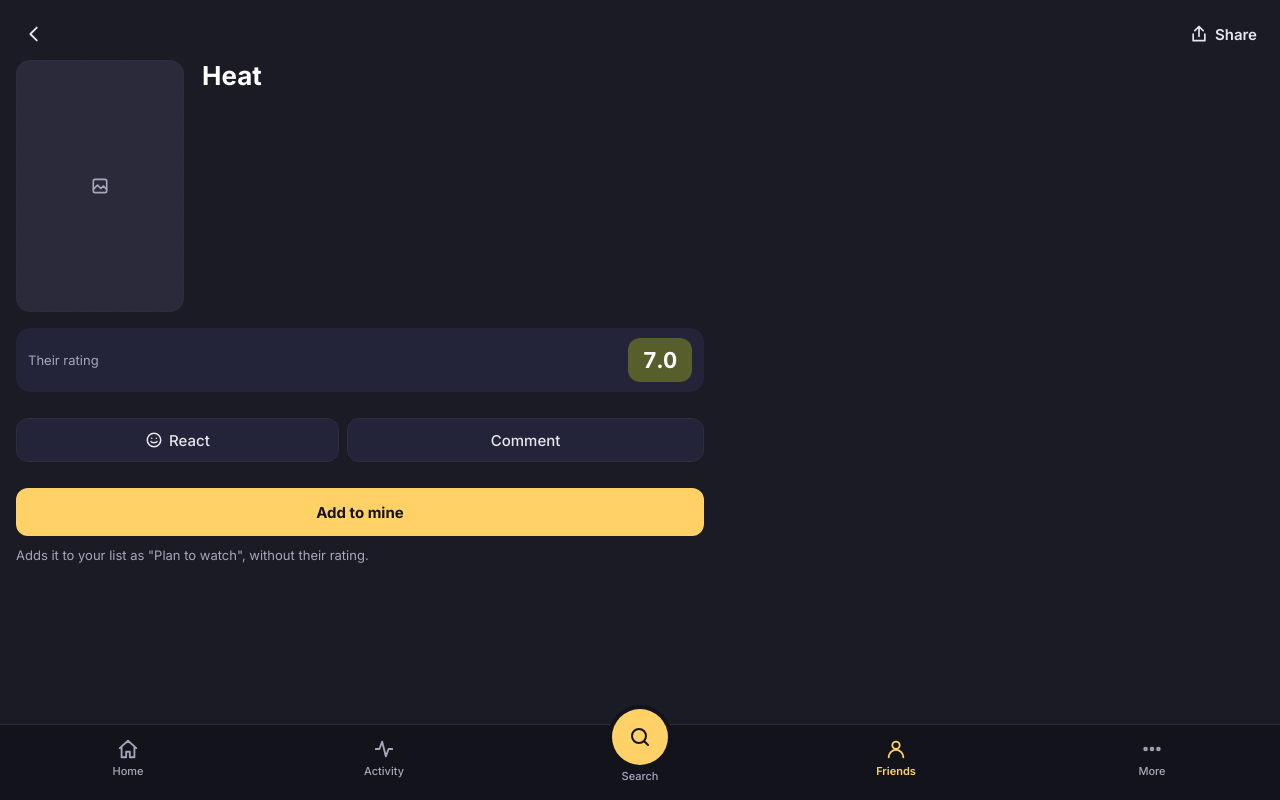
Share on a title page › a friend's title: Share sends it without a rating (it is not yours)
What coordinates should you click on to do the following:
click the button "Share "
I would click on:
 (1223, 34)
Its box is [1178,12,1268,56].
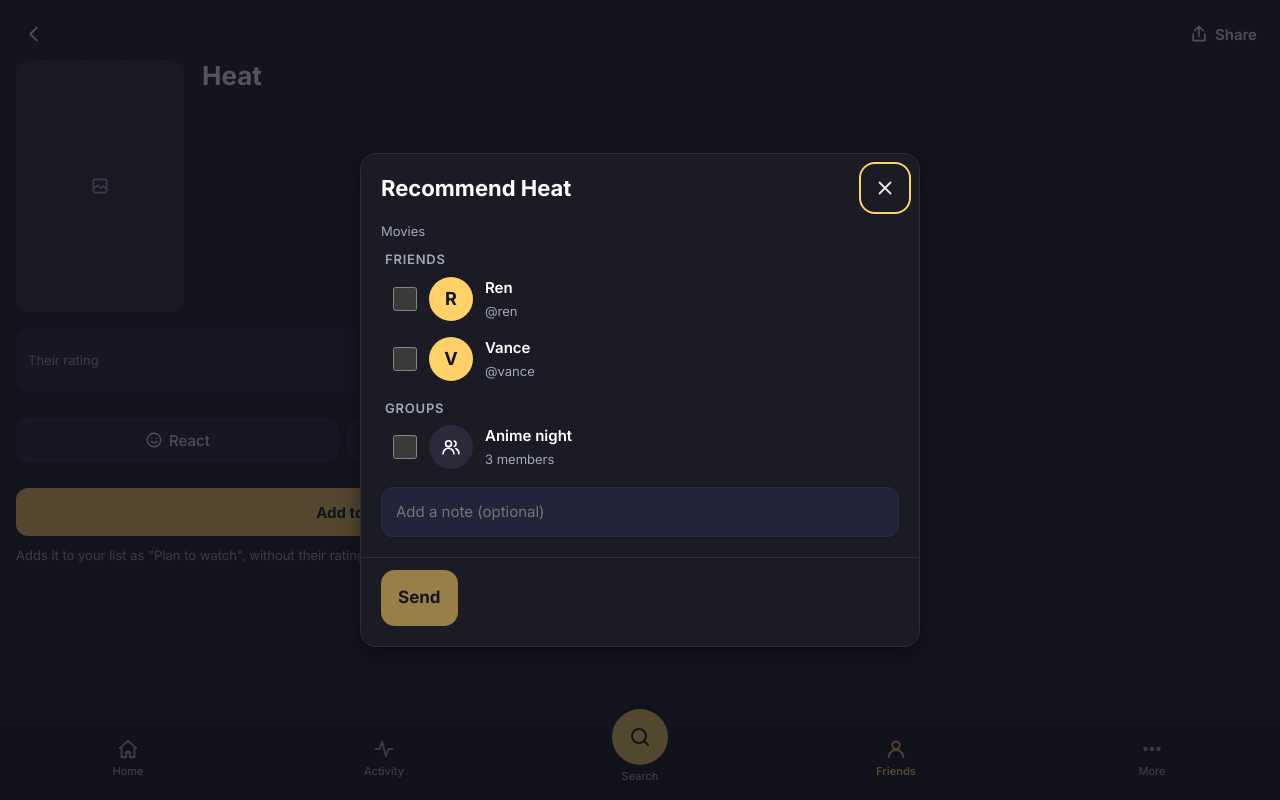
What coordinates should you click on to do the following:
click the checkbox labelled "R Ren @ren"
I would click on:
 (405, 299)
Its box is [393,287,417,311].
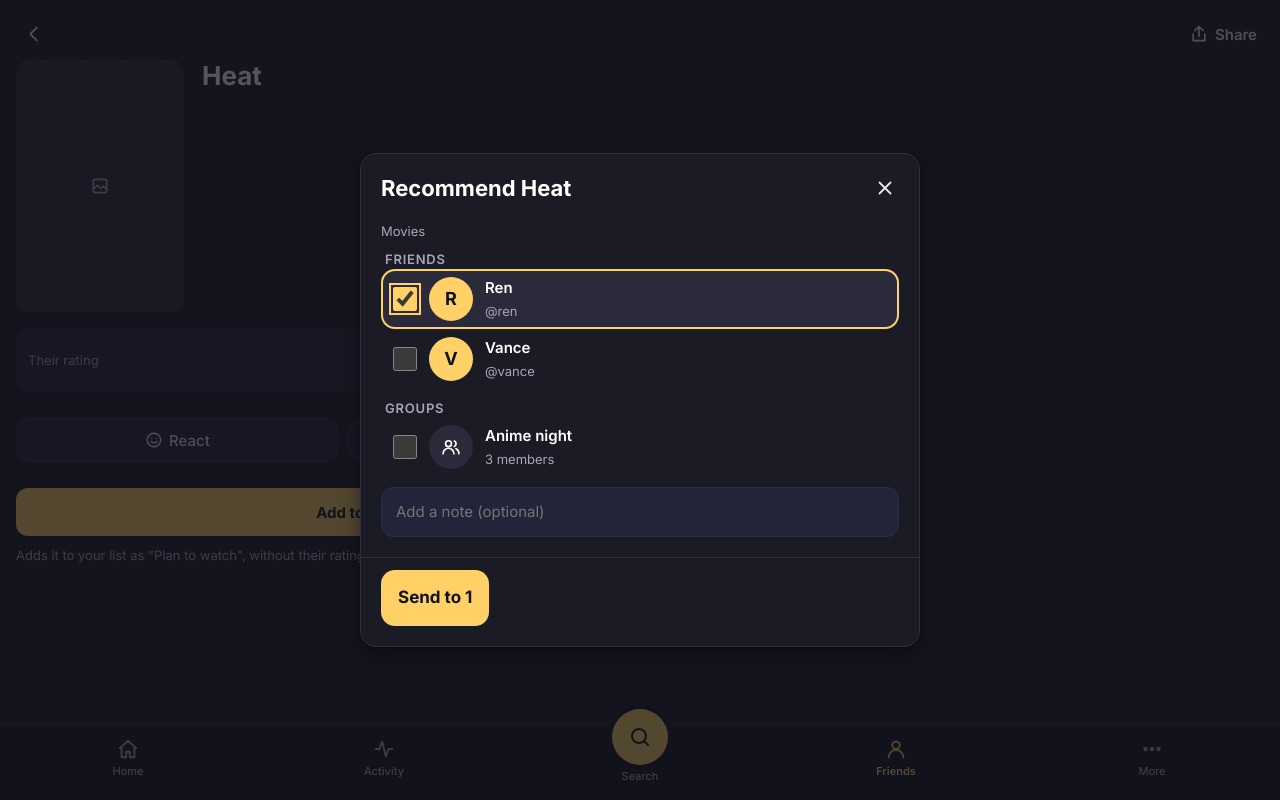
What coordinates should you click on to do the following:
click the button "Send to 1"
I would click on:
 (435, 598)
Its box is [381,570,489,626].
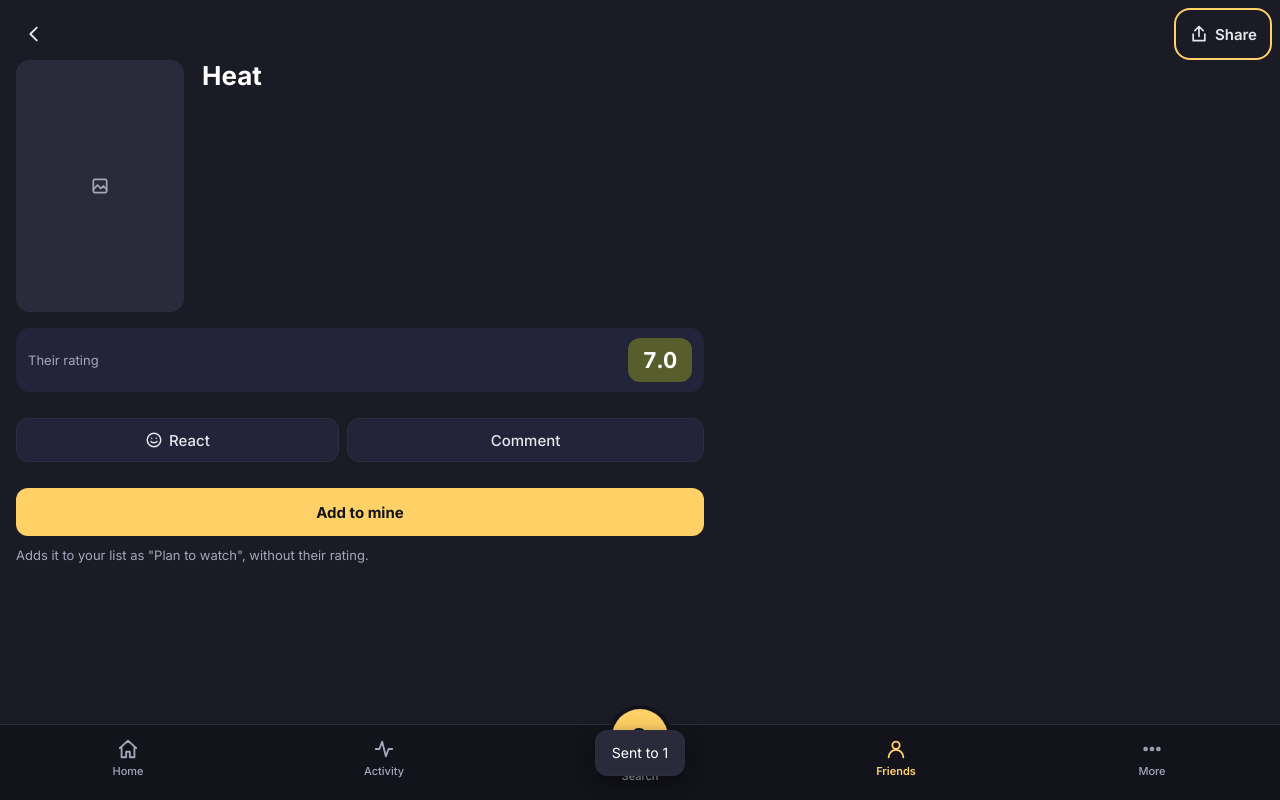
Expected: the text "Sent to 1" is shown, [595,730,685,776]
